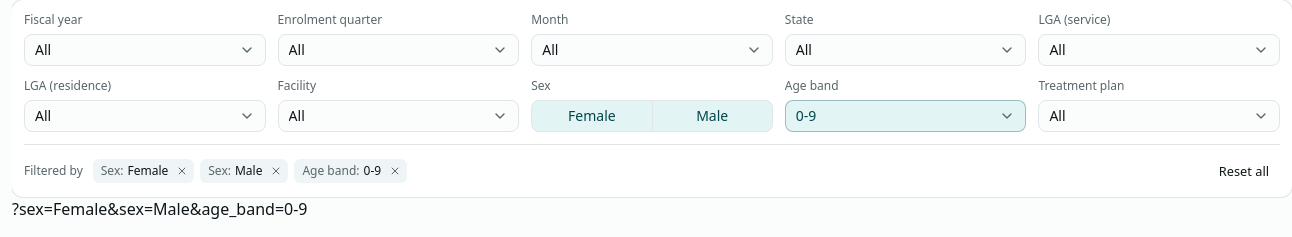
Test: FilterBar › removes one value from its chip, and resets everything at once
What coordinates should you click on to do the following:
click the button named "Remove Sex Female"
I would click on:
 (182, 171)
Its box is [172,161,192,181].
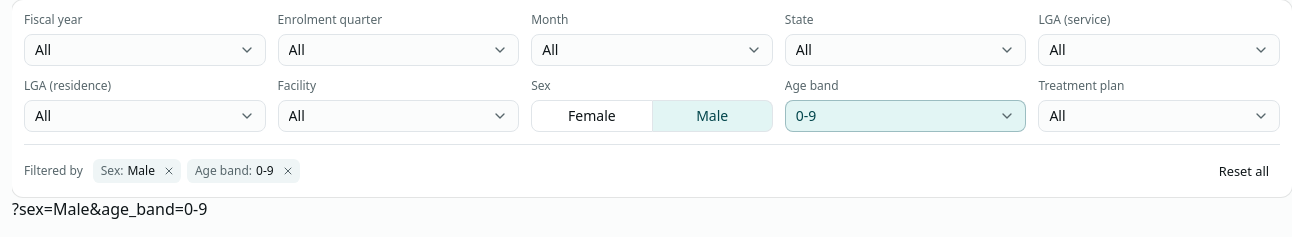
Now the text with test id "query" reads "?sex=Male&age_band=0-9", box [12,198,207,220]
What coordinates should you click on to do the following:
click the button "Reset all"
I would click on:
 (1244, 171)
Its box is [1208,157,1280,185].
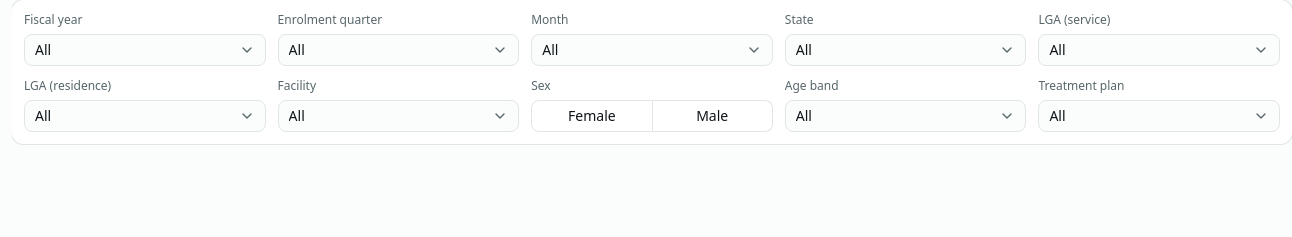
Now the text "Filtered by" is gone
